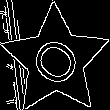O_SE: (24, 28, 87, 93)
